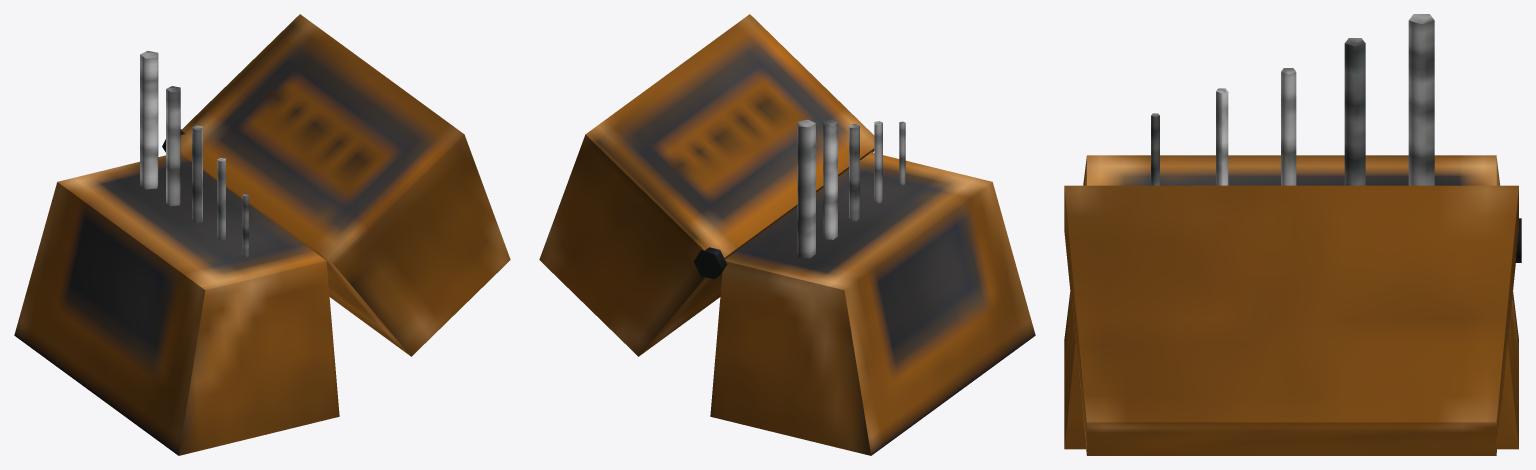
File: drill_set.FBX
The picture shows the model from 3 angles, left to right: view 1: azimuth 30°, elevation 25°; view 2: azimuth 150°, elevation 25°; view 3: azimuth 270°, elevation 25°; orthographic projection. The views are drawn at different scales.
Visible parts, largest first — view 1: InventoryItem_DrillSet; view 2: InventoryItem_DrillSet; view 3: InventoryItem_DrillSet.
Boxes of the visible parts, bbox=[...] form: InventoryItem_DrillSet: bbox=[14, 14, 510, 455]; InventoryItem_DrillSet: bbox=[539, 14, 1035, 455]; InventoryItem_DrillSet: bbox=[1064, 14, 1521, 455].
Size of the model in its own units: 157 by 133 by 125.
Materials: 1 (1 with a texture image).
